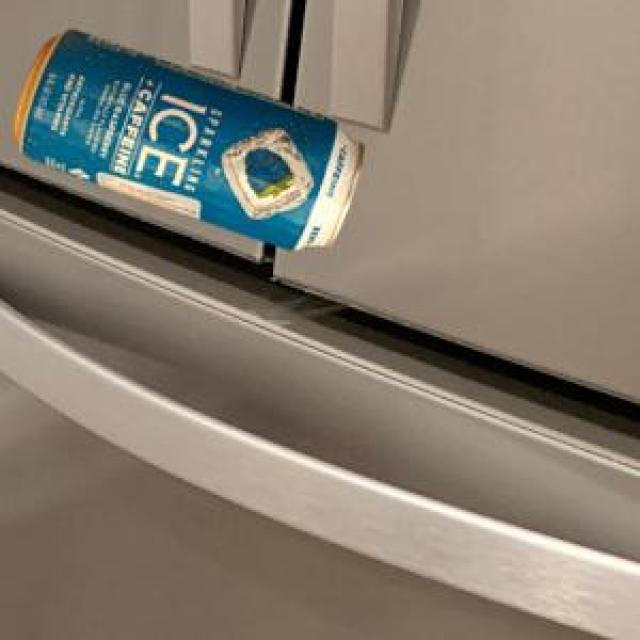logam: (12, 27, 359, 246)
